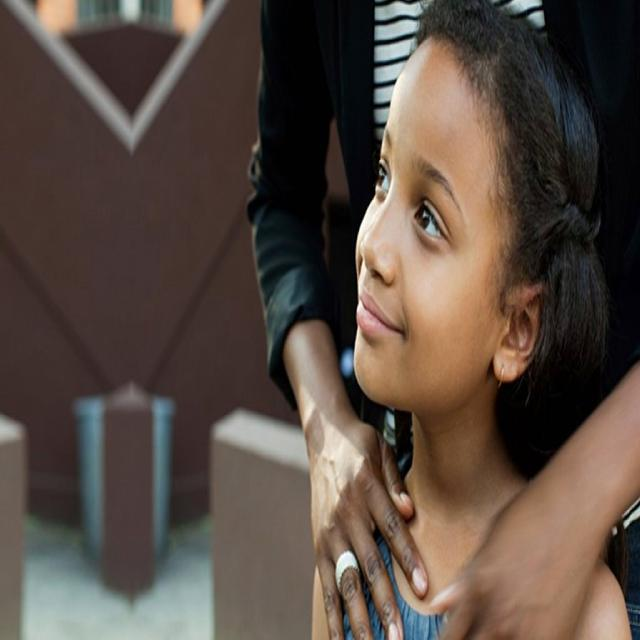adult: (249, 0, 640, 640)
child: (316, 6, 632, 640)
